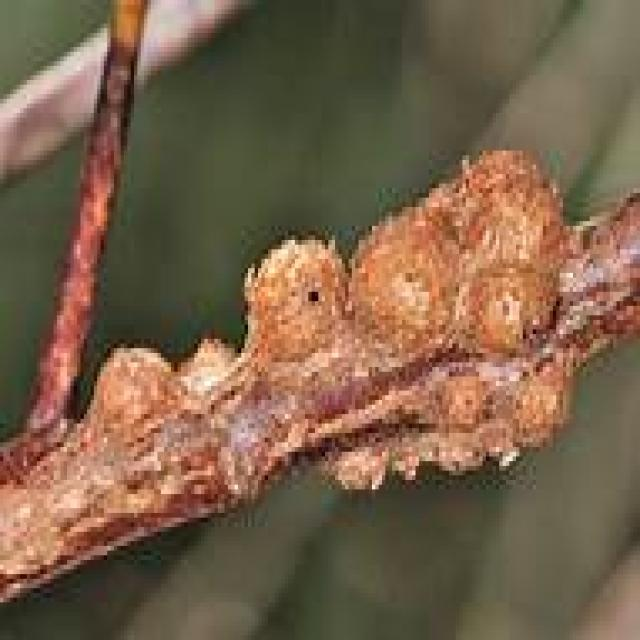Black Scale: (245, 151, 573, 376), (77, 344, 194, 447)
